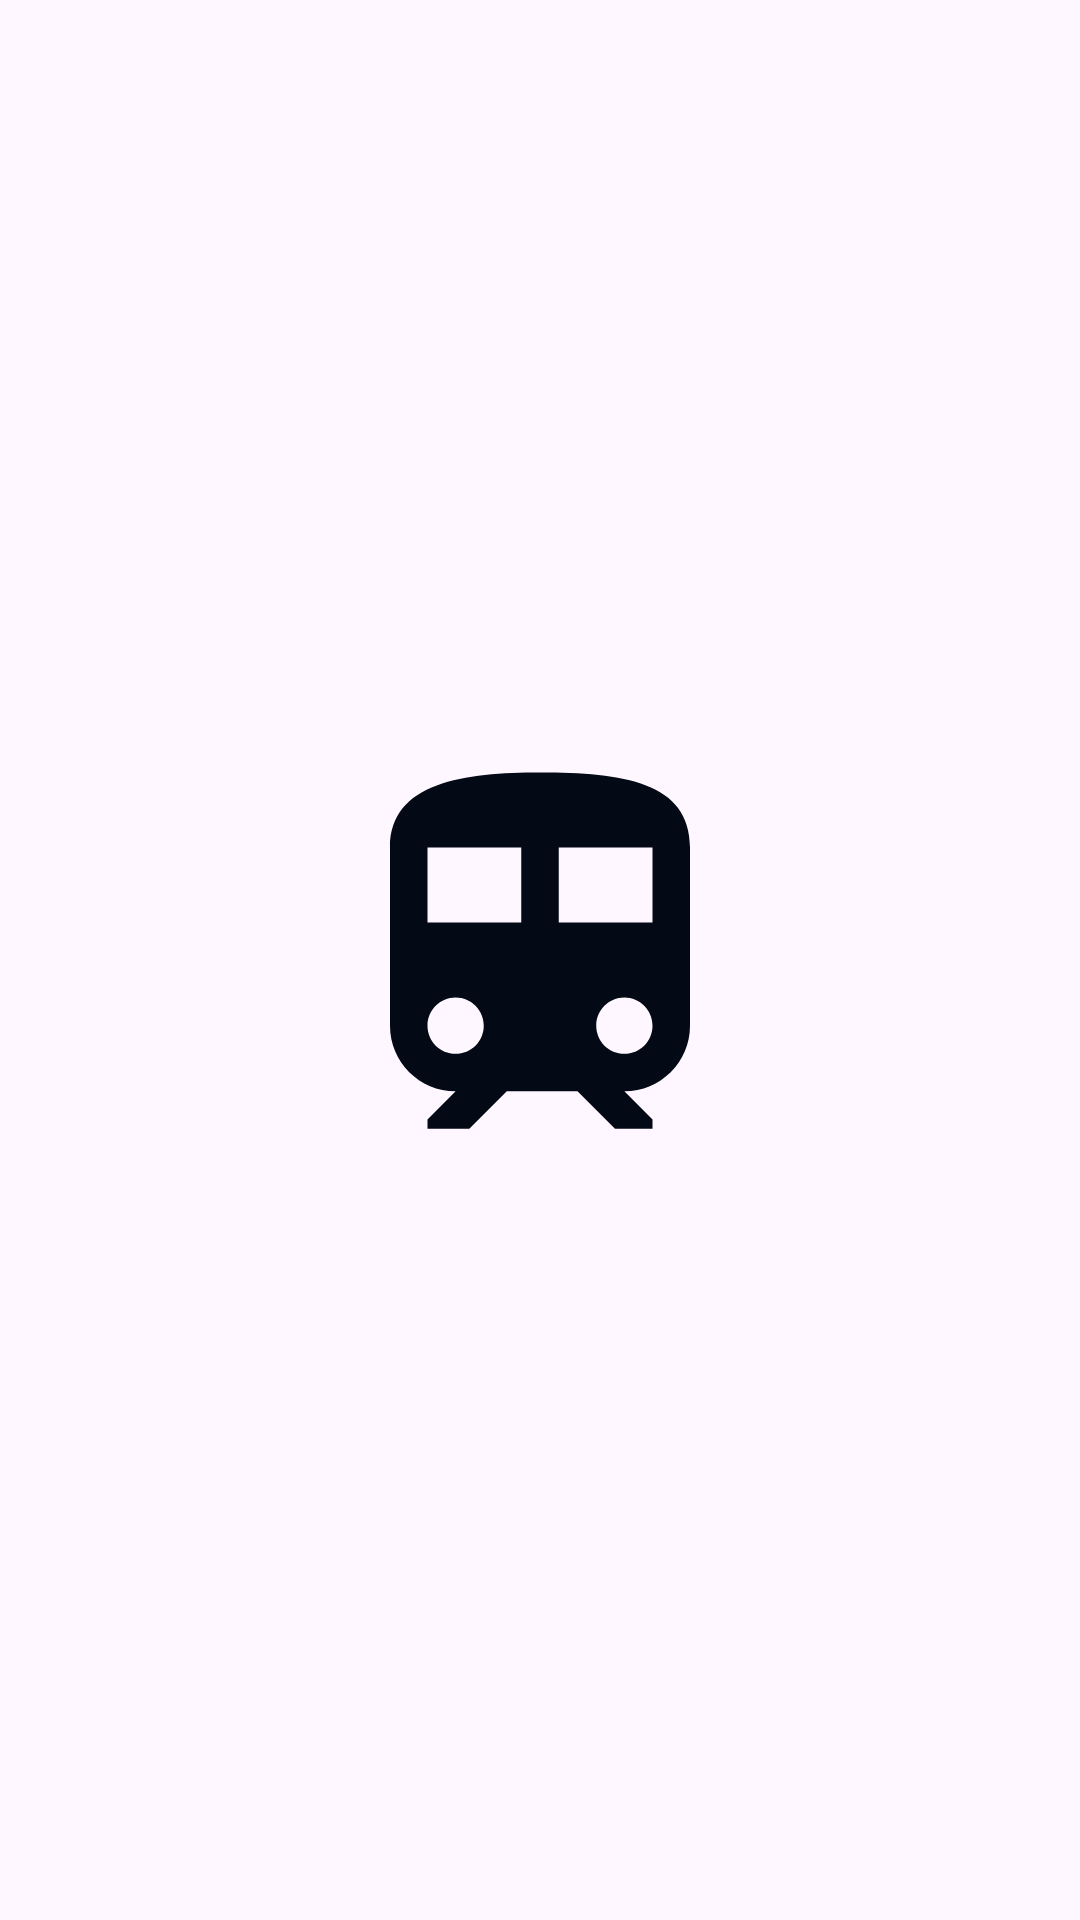

Locate icon controls on the screen. Image size 1080 × 1920, boxes as [x1=x1, y1=y1, x2=x2, y2=y2].
train: [x1=390, y1=772, x2=690, y2=1129]
